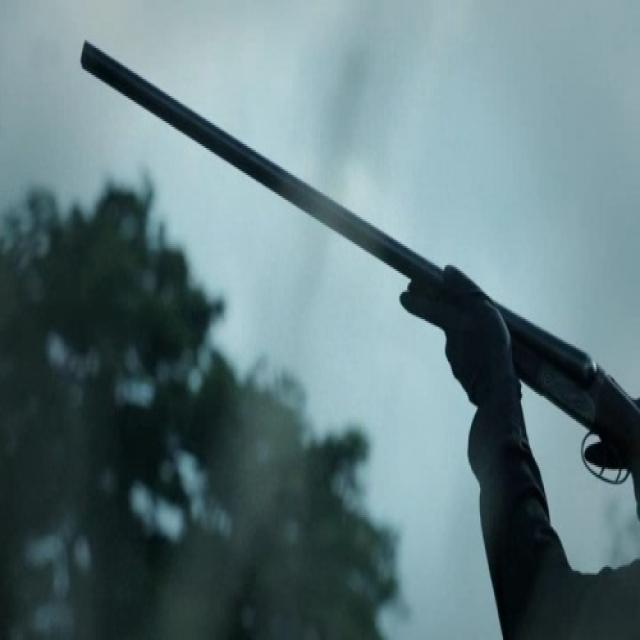rifle: (75, 37, 640, 483)
